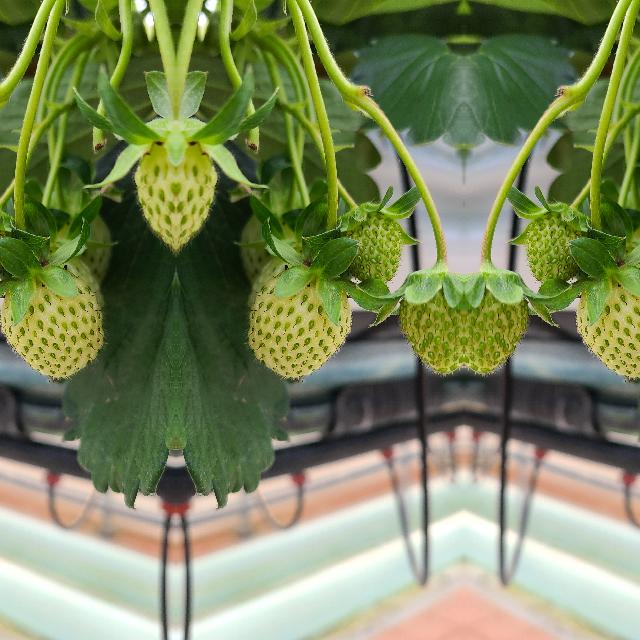Health_25: (246, 270, 350, 376), (0, 270, 104, 376), (396, 272, 462, 378), (464, 272, 530, 378), (576, 270, 640, 376), (339, 206, 403, 282), (523, 206, 587, 282)
